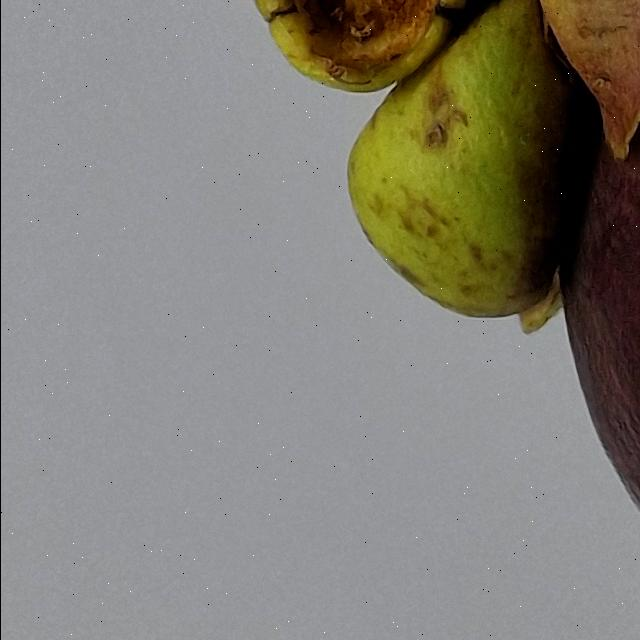mangosteen: (250, 0, 640, 640)
